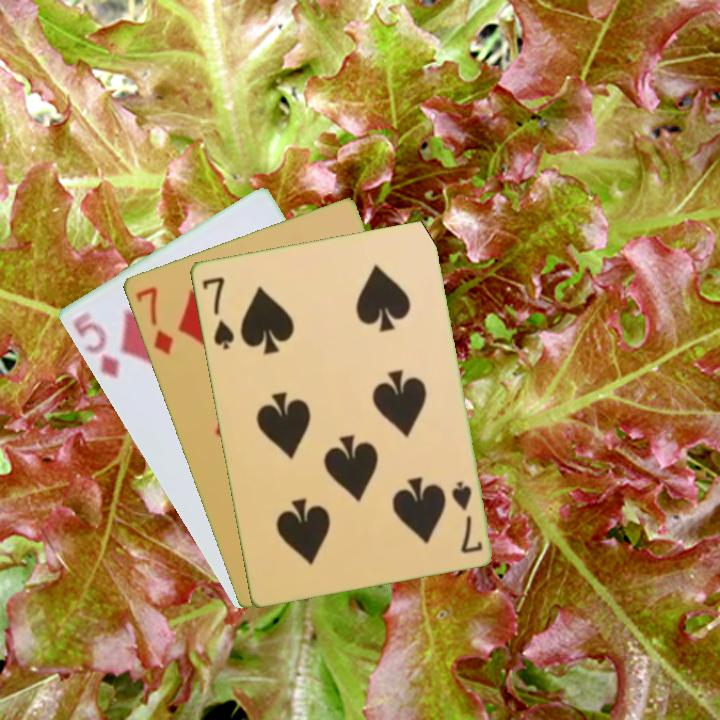5d: (68, 308, 122, 382)
7d: (131, 283, 176, 358)
7s: (198, 273, 237, 352), (447, 477, 485, 556)
